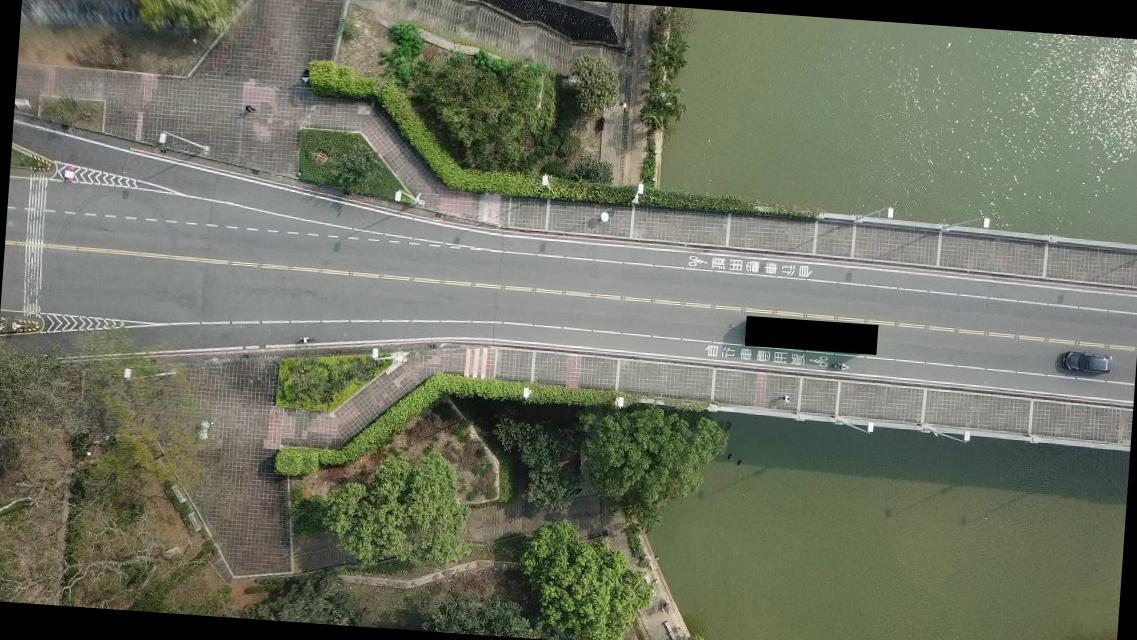vehicle: (1060, 349, 1112, 375)
